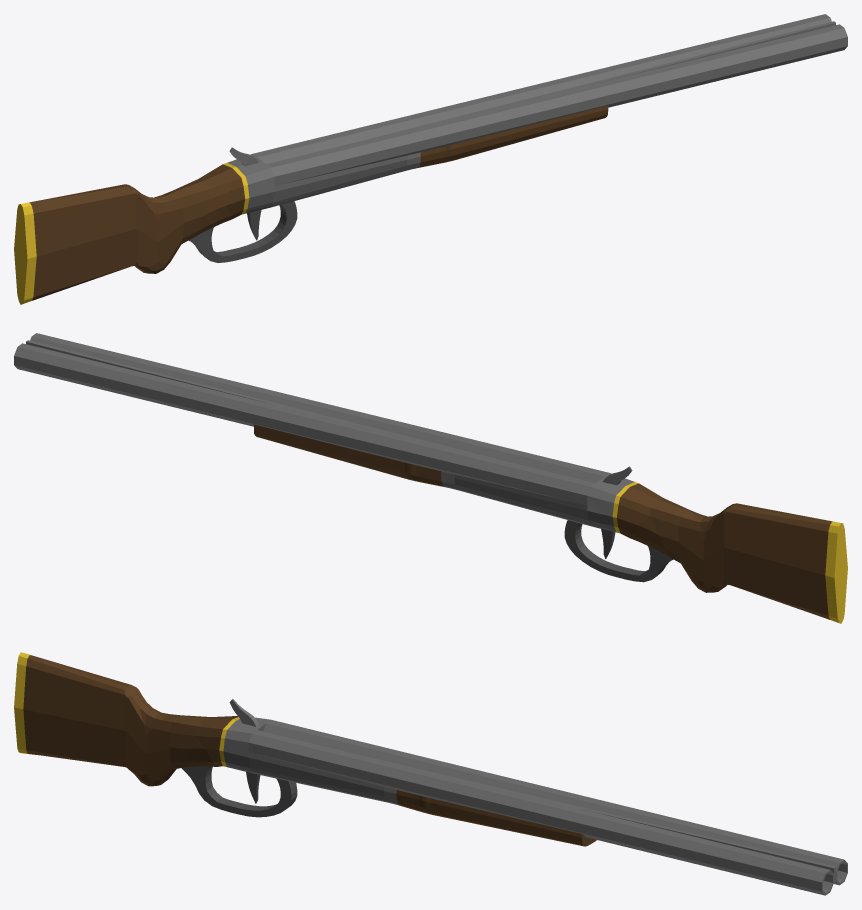
The model's file is Shotgun.fbx.
3 renders of one model, top to bottom at view 1: azimuth 30°, elevation 25°; view 2: azimuth 150°, elevation 25°; view 3: azimuth 330°, elevation 25°, orthographic.
Parts seen in each view (by area): view 1: Shotgun; view 2: Shotgun; view 3: Shotgun.
Part boxes in pixels (bbox=[...]): Shotgun: bbox=[14, 14, 847, 304]; Shotgun: bbox=[14, 333, 847, 623]; Shotgun: bbox=[14, 652, 847, 895].
Bounding box in the file's own units: 130 × 16.94 × 7.64.
1 material, 1 textured.
